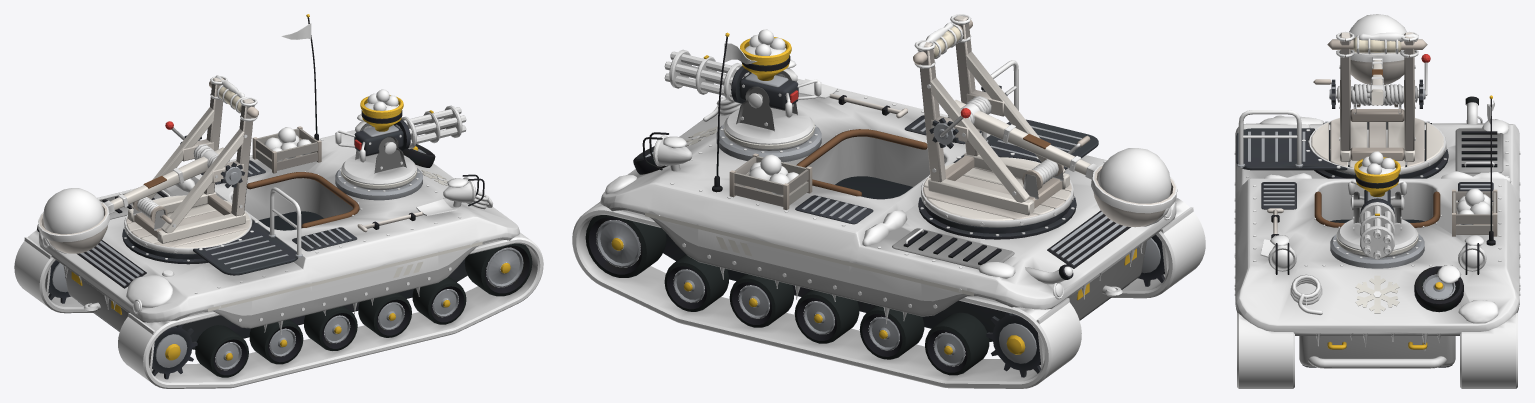
File: snowtank.glb
The picture shows the model from 3 angles, left to right: view 1: azimuth 30°, elevation 25°; view 2: azimuth 150°, elevation 25°; view 3: azimuth 270°, elevation 25°; orthographic projection. The views are drawn at different scales.
Visible parts, largest first — view 1: mesh_body_paint, mesh_trackR_tread, mesh_catapult_wood, mesh_body_trim, mesh_catapult_trim, mesh_wheelR6_trim, mesh_turret_paint, mesh_ammo_snow, mesh_body_snow, mesh_trackL_tread, mesh_wheelR1_trim, mesh_arm_wood (+19 smaller); view 2: mesh_body_paint, mesh_trackL_tread, mesh_body_trim, mesh_catapult_wood, mesh_wheelL6_trim, mesh_turret_paint, mesh_ammo_snow, mesh_trackR_tread, mesh_wheelL1_trim, mesh_arm_wood, mesh_body_wood, mesh_body_snow (+18 smaller); view 3: mesh_body_paint, mesh_body_trim, mesh_catapult_wood, mesh_trackL_tread, mesh_trackR_tread, mesh_body_snow, mesh_catapult_trim, mesh_body_chrome, mesh_turret_paint, mesh_body_wood, mesh_catapult_rope, mesh_arm_wood (+14 smaller).
Boxes of the visible parts, x1,y1,x2,y2 form: mesh_body_paint: [39, 23, 519, 331]; mesh_trackR_tread: [118, 232, 543, 388]; mesh_catapult_wood: [126, 77, 258, 248]; mesh_body_trim: [37, 14, 494, 349]; mesh_catapult_trim: [165, 121, 302, 275]; mesh_wheelR6_trim: [464, 243, 532, 296]; mesh_turret_paint: [342, 123, 416, 189]; mesh_ammo_snow: [43, 188, 103, 234]; mesh_body_snow: [126, 113, 468, 307]; mesh_trackL_tread: [14, 230, 92, 313]; mesh_wheelR1_trim: [195, 325, 248, 377]; mesh_arm_wood: [39, 147, 229, 253]; mesh_body_paint: [600, 43, 1176, 320]; mesh_trackL_tread: [572, 202, 1081, 388]; mesh_body_trim: [631, 32, 1144, 343]; mesh_catapult_wood: [913, 15, 1090, 220]; mesh_wheelL6_trim: [585, 215, 666, 277]; mesh_turret_paint: [724, 70, 813, 150]; mesh_ammo_snow: [1098, 148, 1171, 203]; mesh_trackR_tread: [1111, 197, 1205, 298]; mesh_wheelL1_trim: [925, 312, 989, 375]; mesh_arm_wood: [948, 100, 1175, 227]; mesh_body_wood: [729, 93, 907, 210]; mesh_body_snow: [605, 59, 1015, 278]; mesh_body_paint: [1235, 100, 1519, 366]; mesh_body_trim: [1261, 95, 1497, 367]; mesh_catapult_wood: [1311, 32, 1443, 168]; mesh_trackL_tread: [1460, 312, 1517, 388]; mesh_trackR_tread: [1237, 312, 1294, 388]; mesh_body_snow: [1259, 116, 1511, 323]; mesh_catapult_trim: [1236, 54, 1430, 170]; mesh_body_chrome: [1234, 96, 1520, 368]; mesh_turret_paint: [1337, 191, 1417, 257]; mesh_body_wood: [1267, 189, 1497, 236]; mesh_catapult_rope: [1336, 31, 1418, 105]; mesh_arm_wood: [1350, 52, 1404, 105].
Size of the model in its own units: 4.58 by 2.42 by 2.42.
